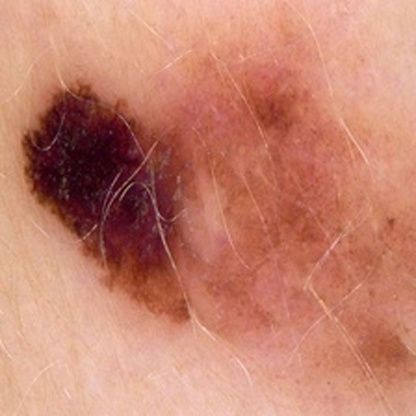malignant: (225, 81, 416, 401), (26, 78, 210, 250)
